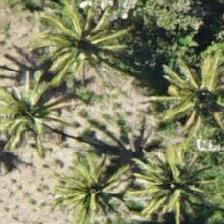coconut_tree: (120, 137, 210, 223), (45, 141, 135, 223), (39, 0, 129, 79), (152, 50, 223, 140), (0, 68, 70, 158)
